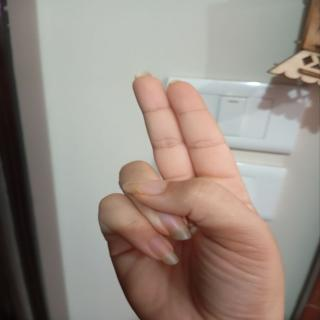TA: (82, 66, 281, 320)
